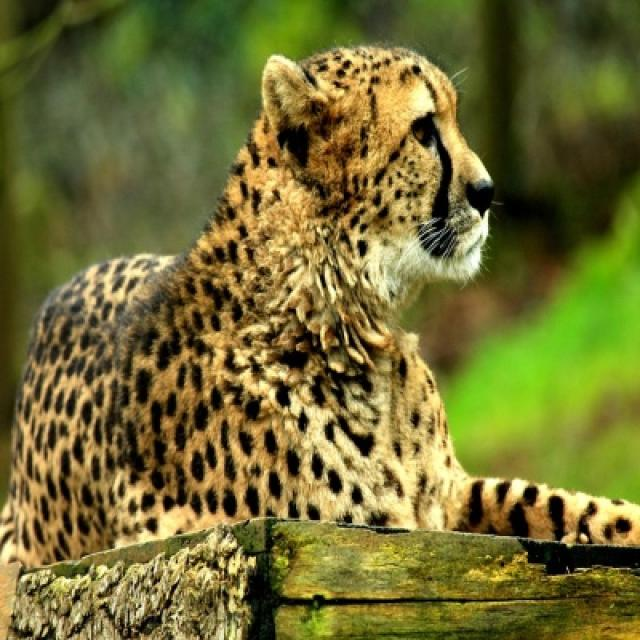Cheetah: (0, 45, 638, 638)
